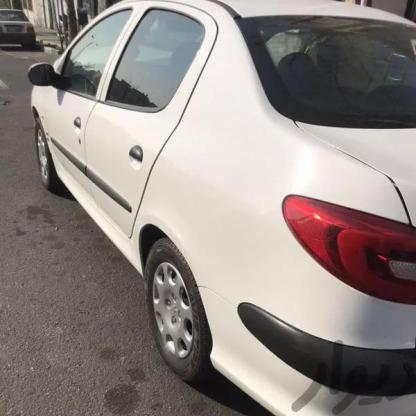Car: (36, 0, 416, 416), (0, 0, 41, 64)
